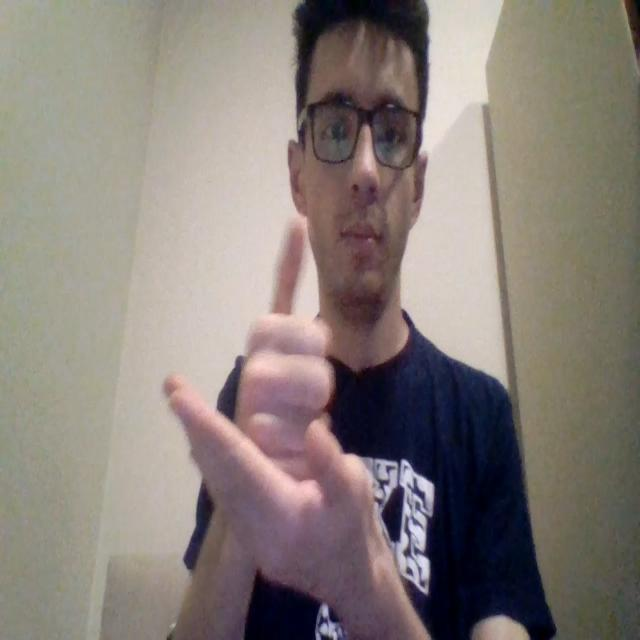help: (164, 214, 376, 581)
